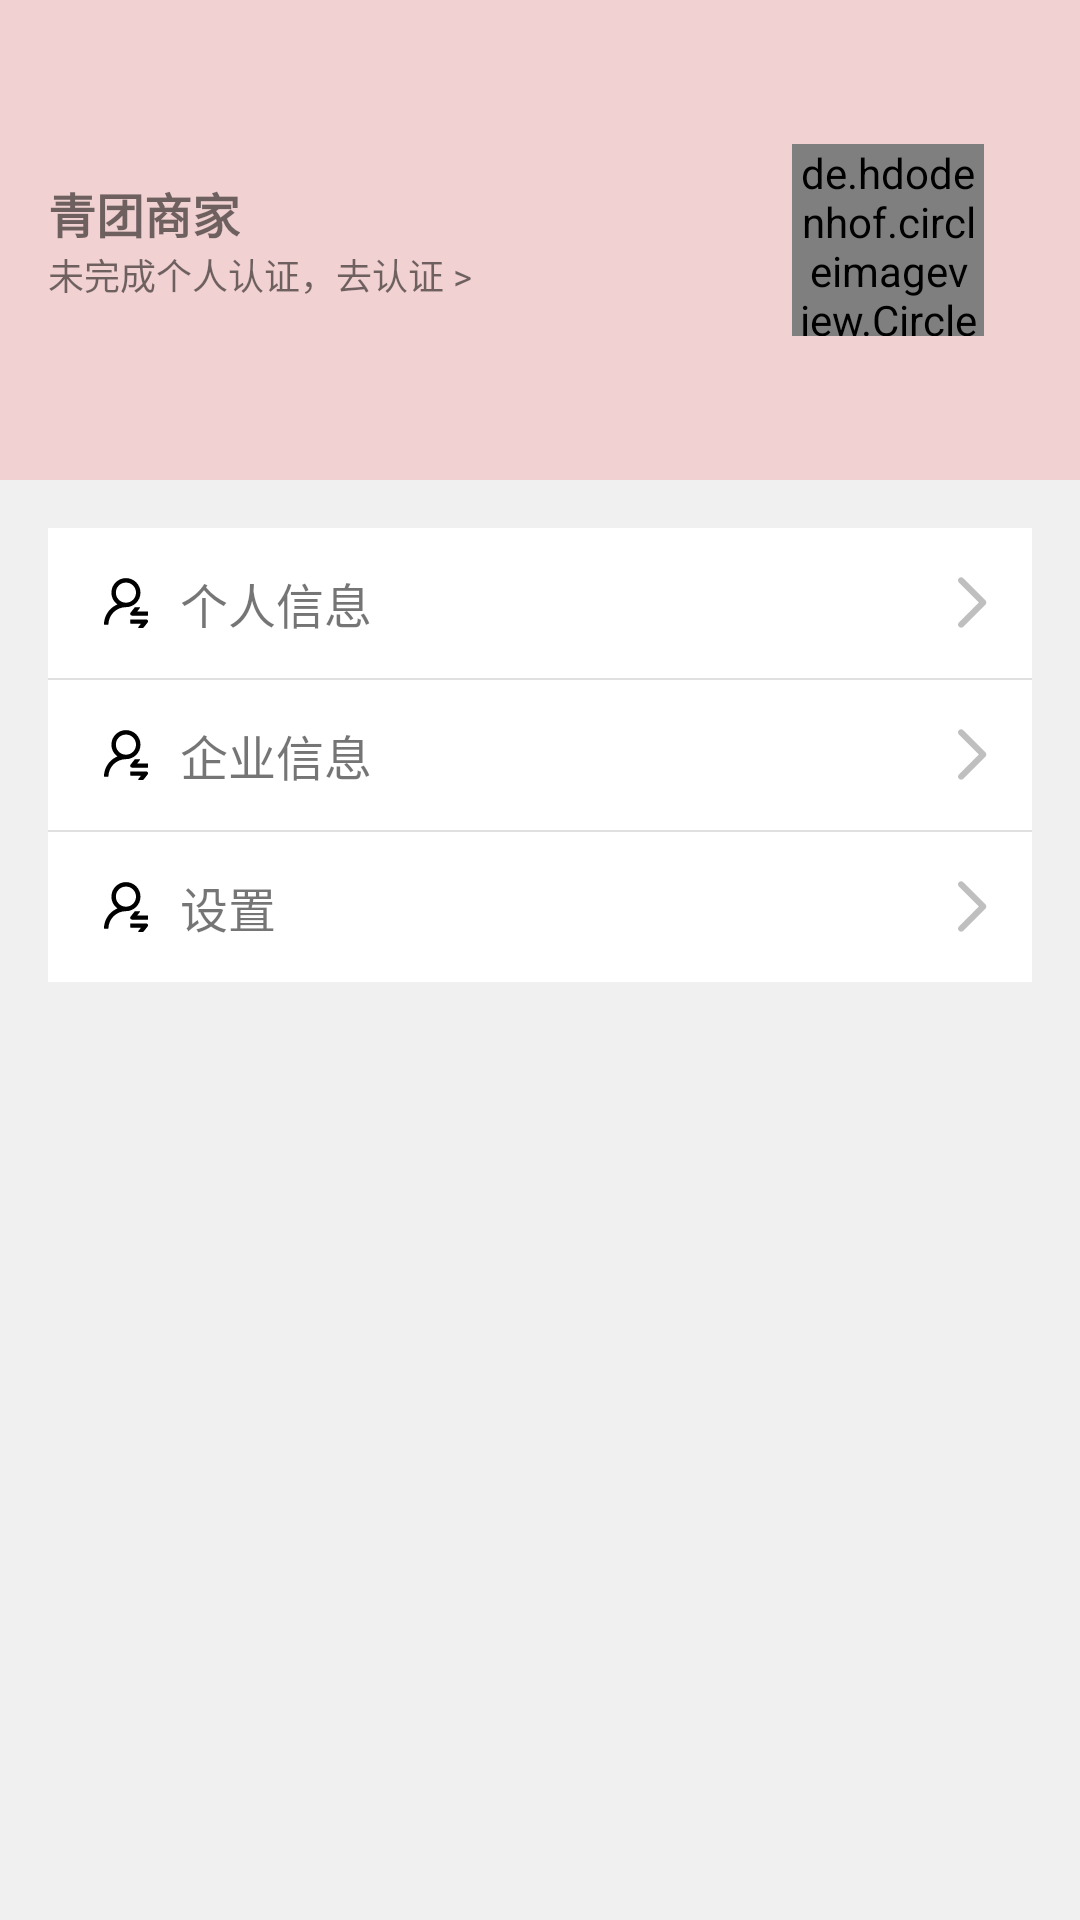

Icons on this 1080px×1920px Android screen, each with its box as bbox=[x1, y1, x2, y2]:
enter: bbox=[958, 577, 986, 628], bbox=[958, 729, 986, 780], bbox=[958, 881, 986, 932]
exchange: bbox=[104, 578, 148, 628], bbox=[104, 730, 148, 780], bbox=[104, 882, 148, 932]
